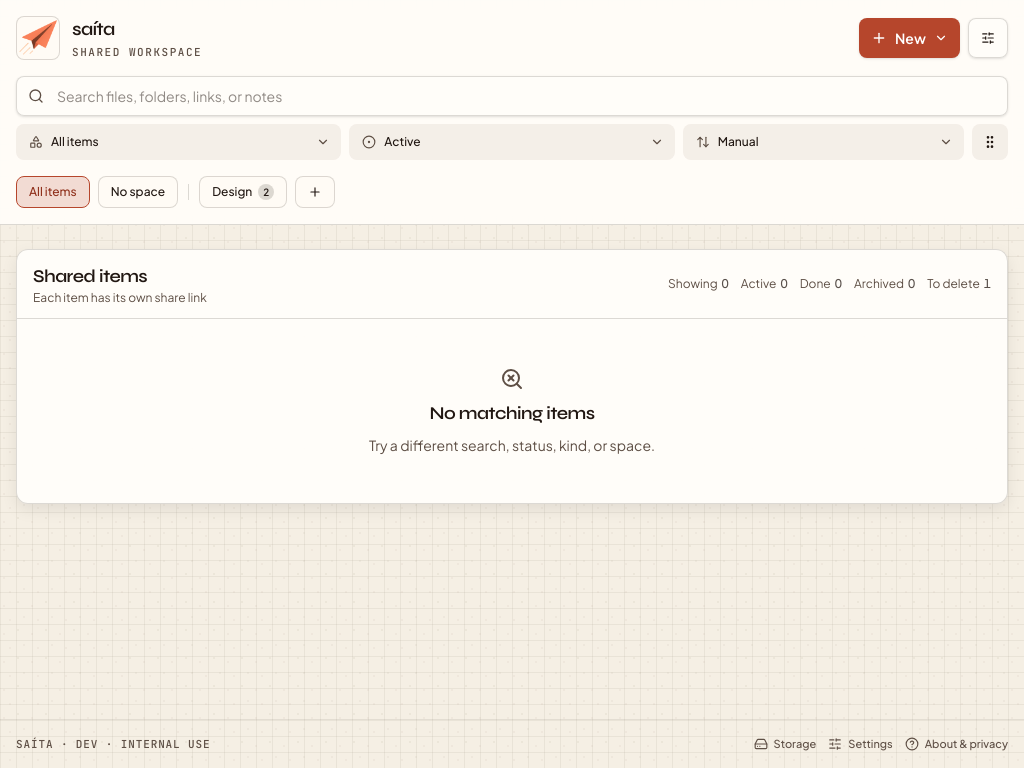
refetches spaces after bulk deleting ready-to-delete items
Check: the button "Design 2" is shown, box [199,176,287,208]
Click the dropdown named "Filter by status".
click(402, 142)  # box [349,124,675,160]
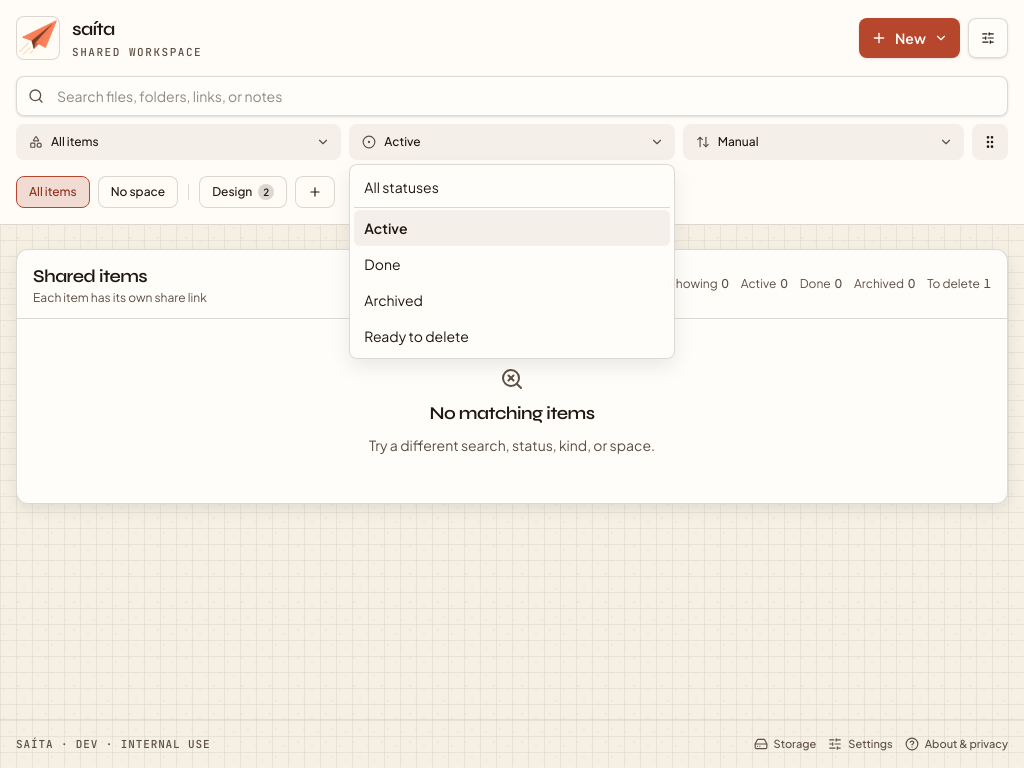
Click the option "Ready to delete".
click(417, 336)  # box [354,318,670,354]
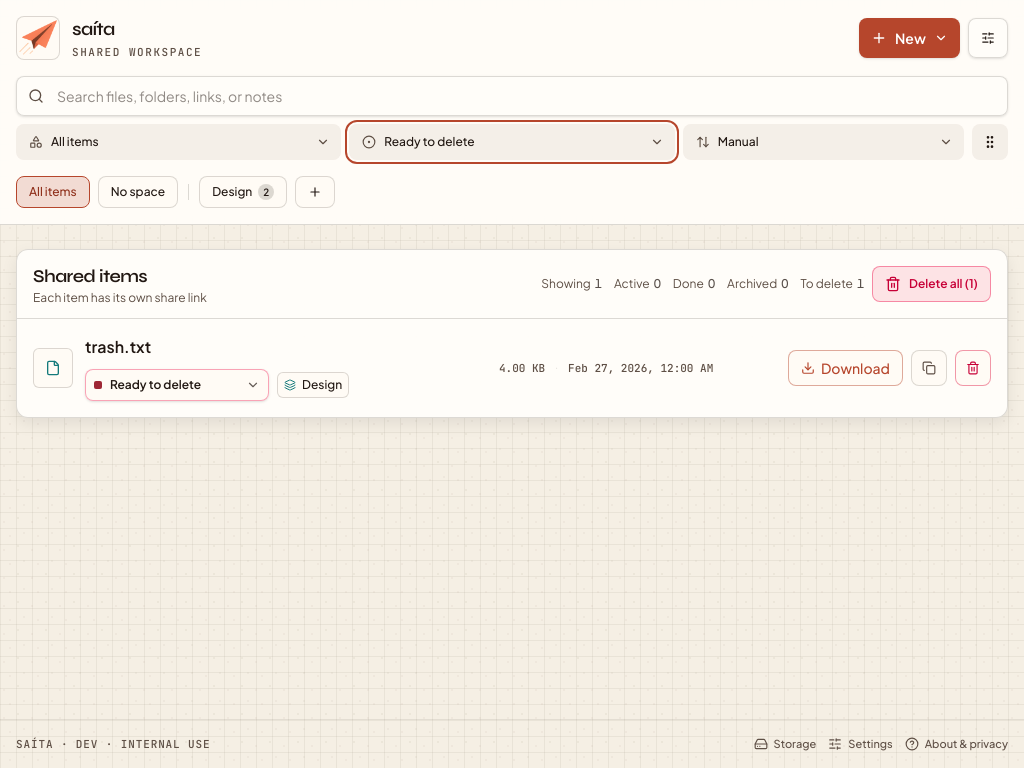
Check: the text "trash.txt" is shown, box [85,336,151,357]
Click the button "Delete all (1)".
click(932, 284)  # box [872,266,991,302]
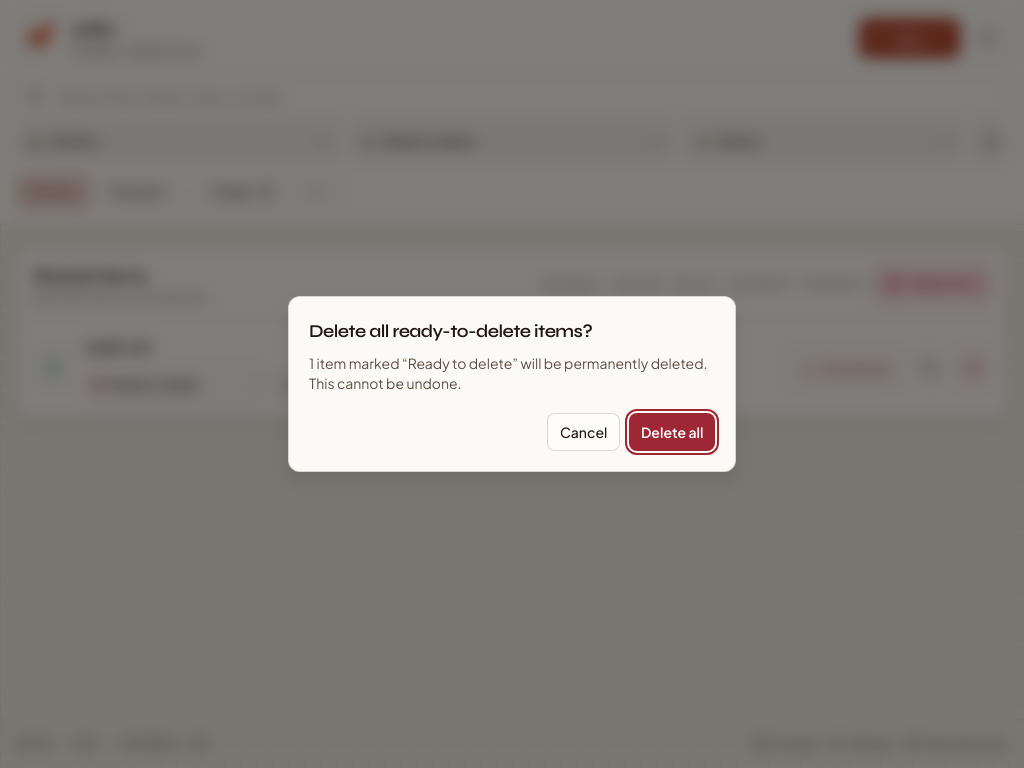
Click the button "Delete all".
click(672, 432)  # box [628,413,715,451]
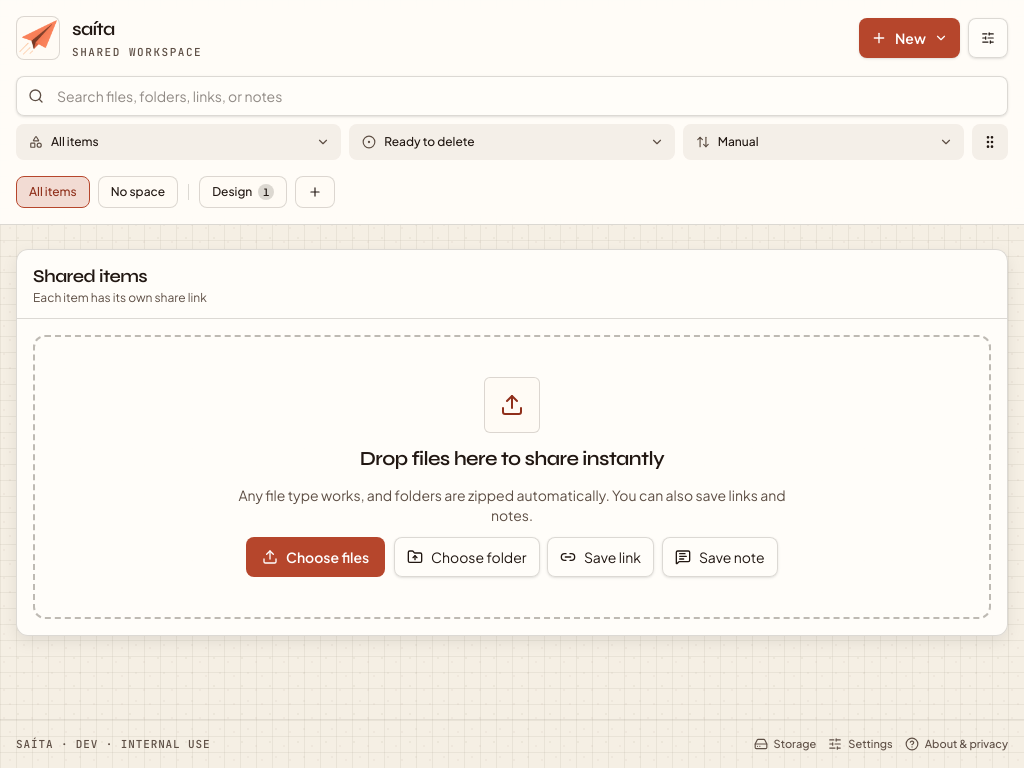
Check: the button "Design 1" is shown, box [199,176,287,208]
